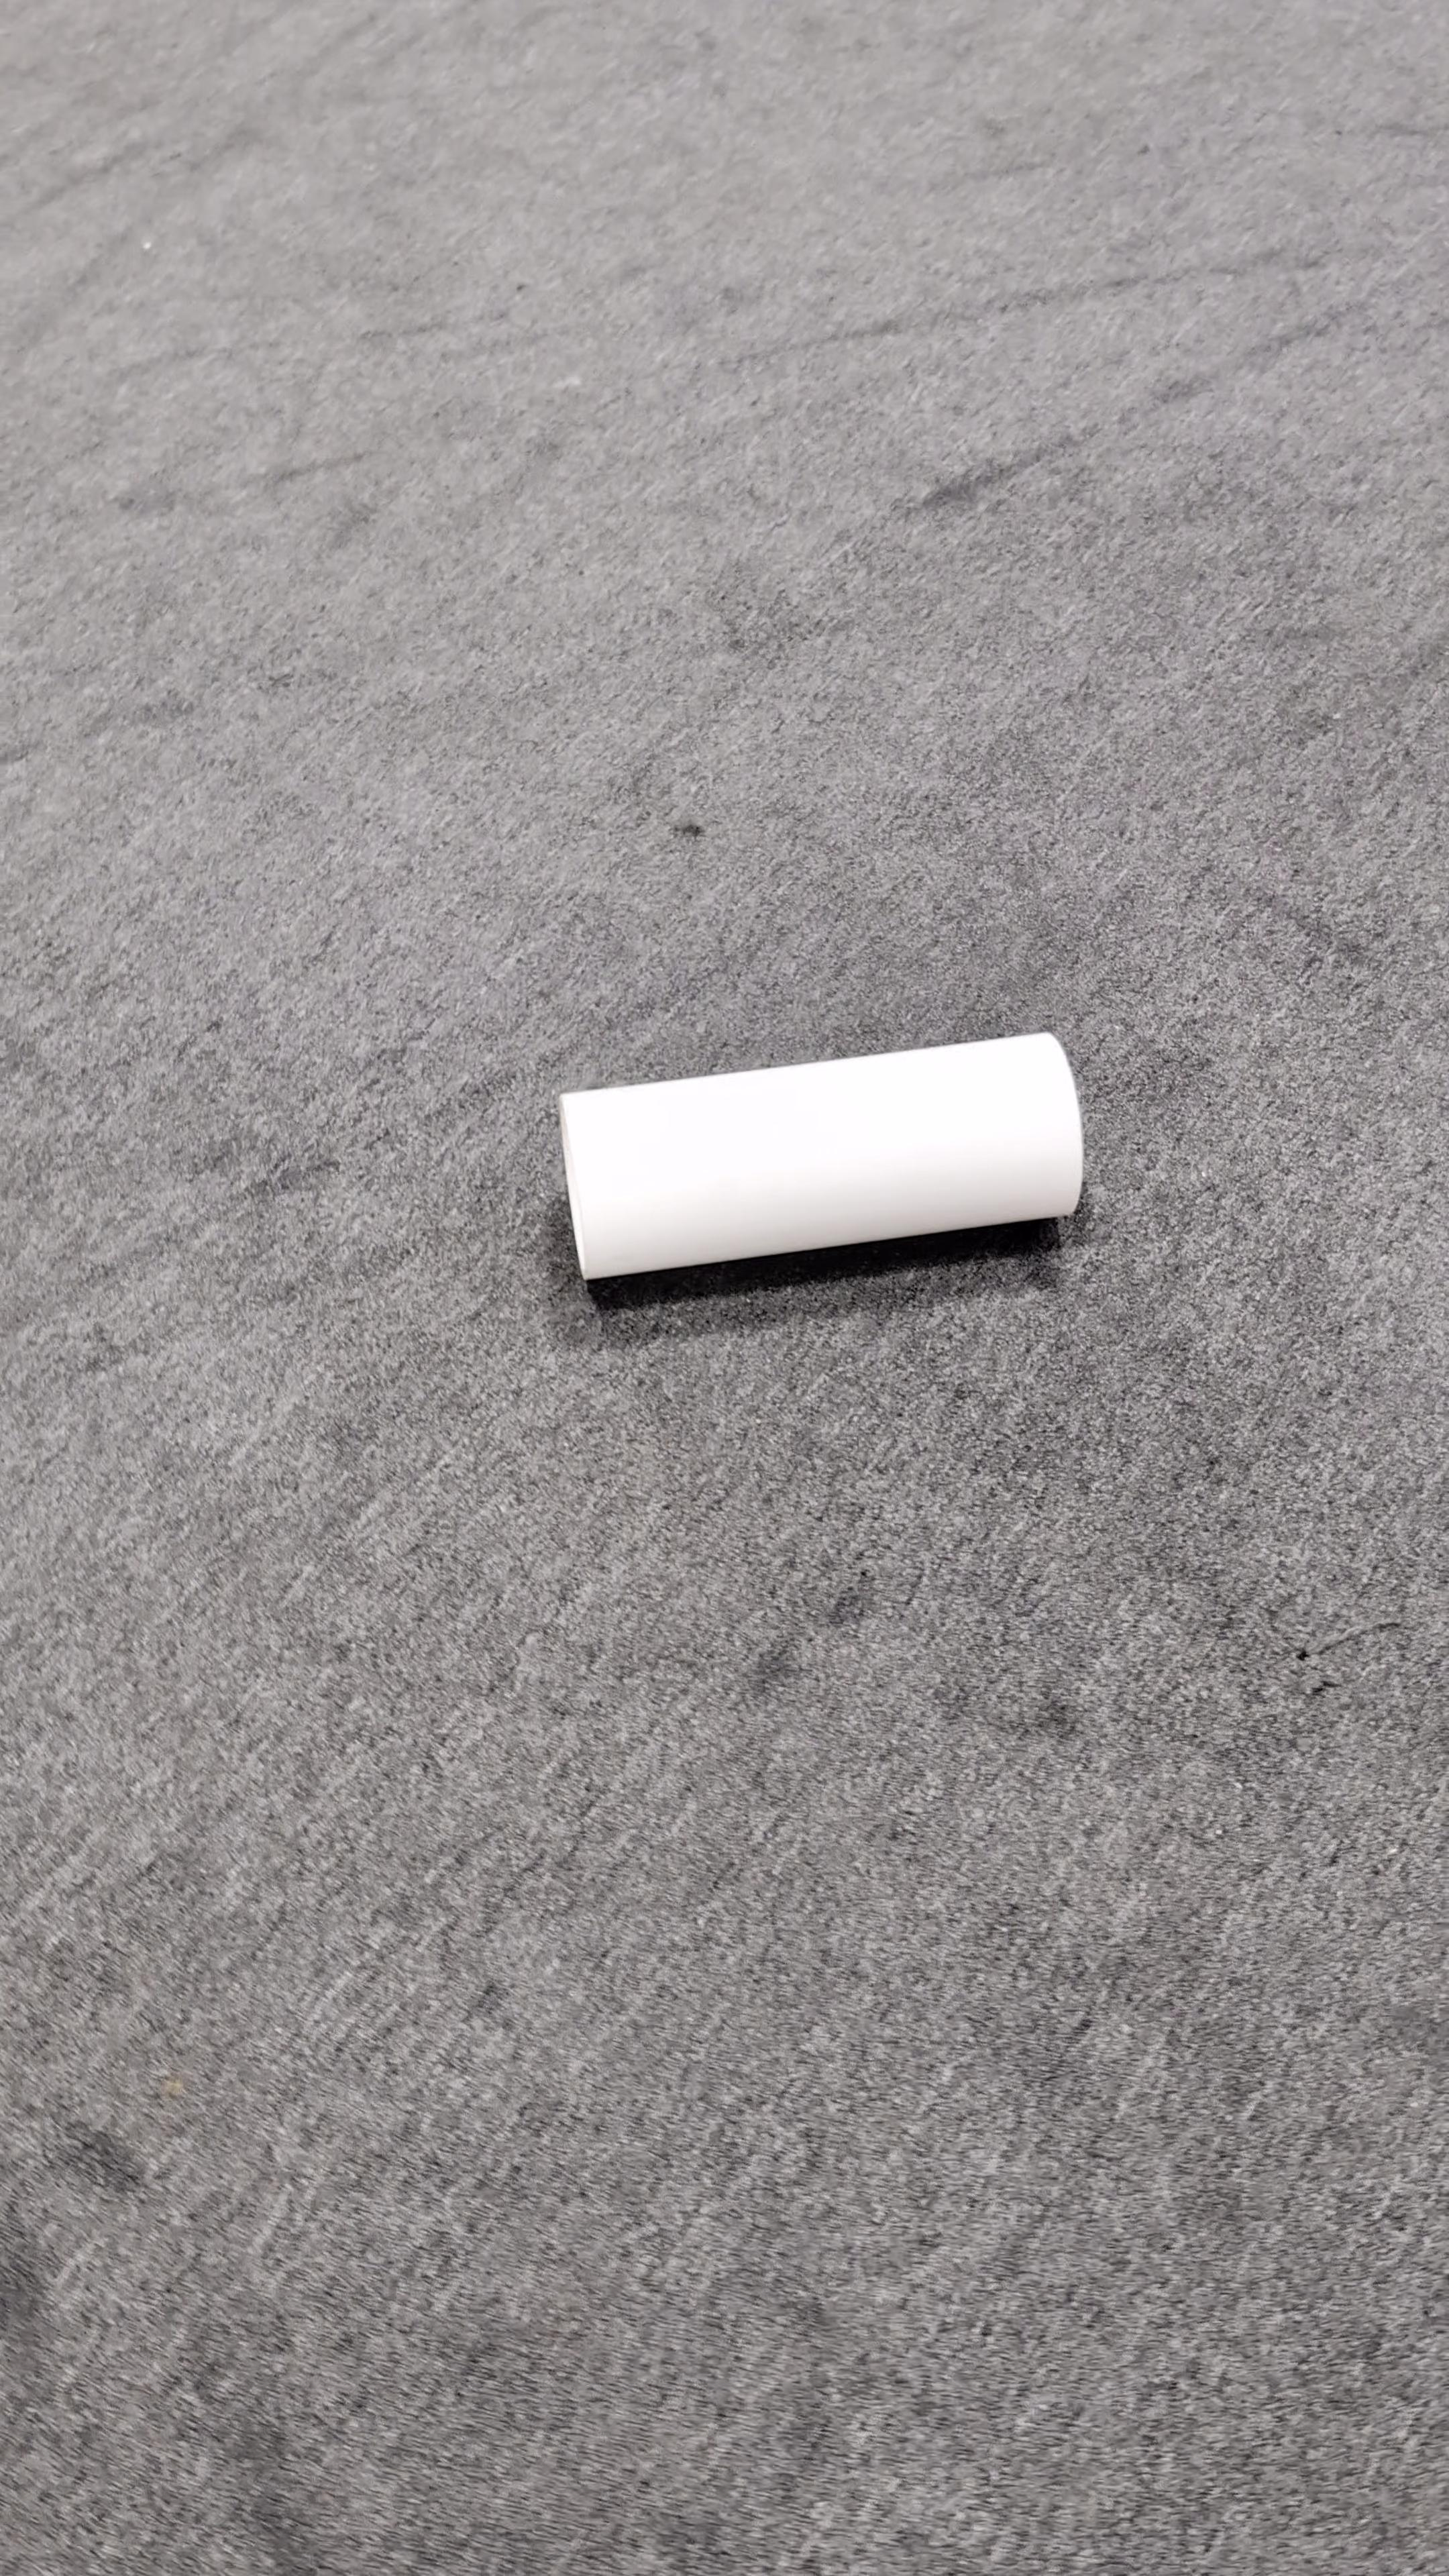coral: (557, 1026, 1085, 1283)
